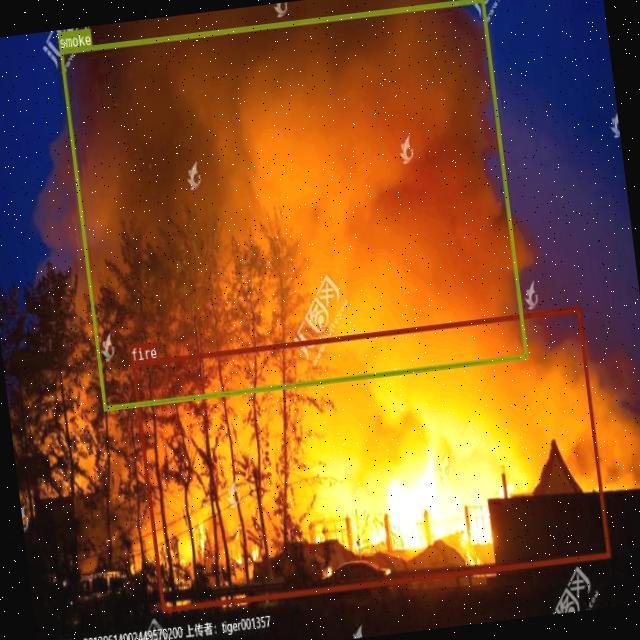fire: (130, 306, 609, 612)
smoke: (58, 0, 527, 409)
